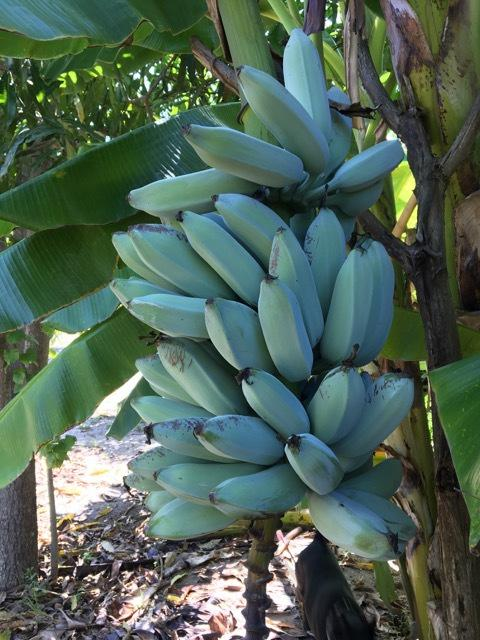Banana Unripe: (42, 5, 460, 588)
